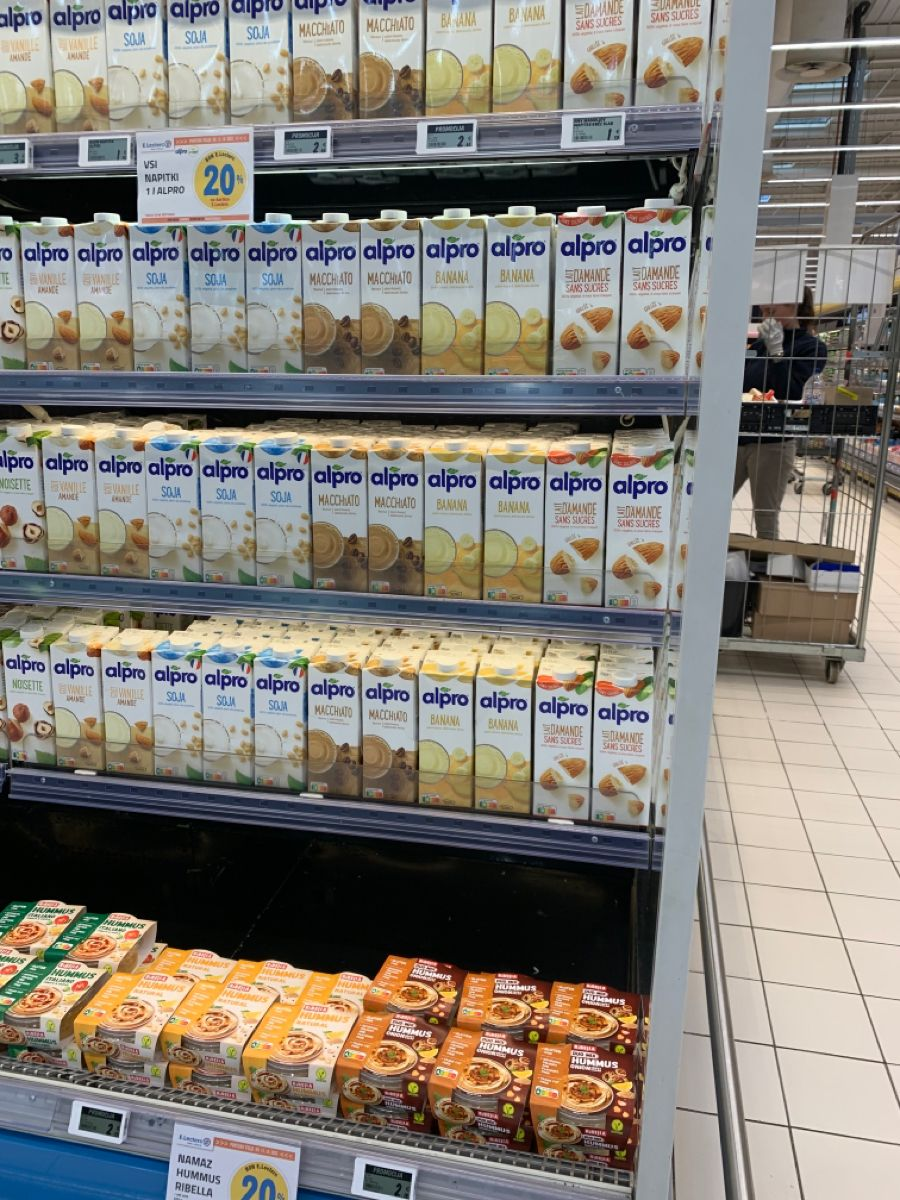milk: (606, 431, 673, 608), (485, 206, 554, 372), (423, 209, 485, 373), (425, 436, 487, 599), (361, 210, 420, 374), (419, 650, 477, 807), (96, 427, 149, 577), (255, 639, 307, 790)
